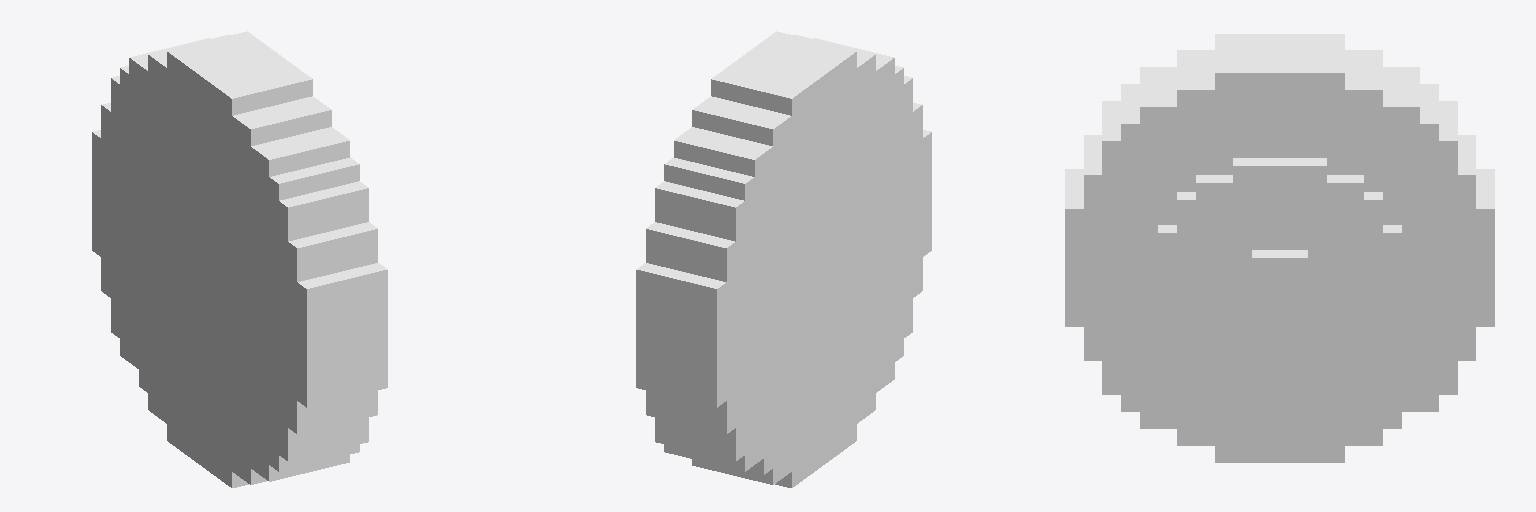
The model's file is zil-130-0.obj.
The picture shows the model from 3 angles: view 1: azimuth 30°, elevation 25°; view 2: azimuth 150°, elevation 25°; view 3: azimuth 270°, elevation 25°; orthographic projection.
Visible parts, largest first — view 1: object 1; view 2: object 1; view 3: object 1.
Part boxes in pixels (left/top/right/bottom): object 1: left=92, top=31, right=387, bottom=487; object 1: left=636, top=31, right=931, bottom=487; object 1: left=1065, top=34, right=1494, bottom=462.
Bounding box in the file's own units: 0.7 × 2.3 × 2.3.